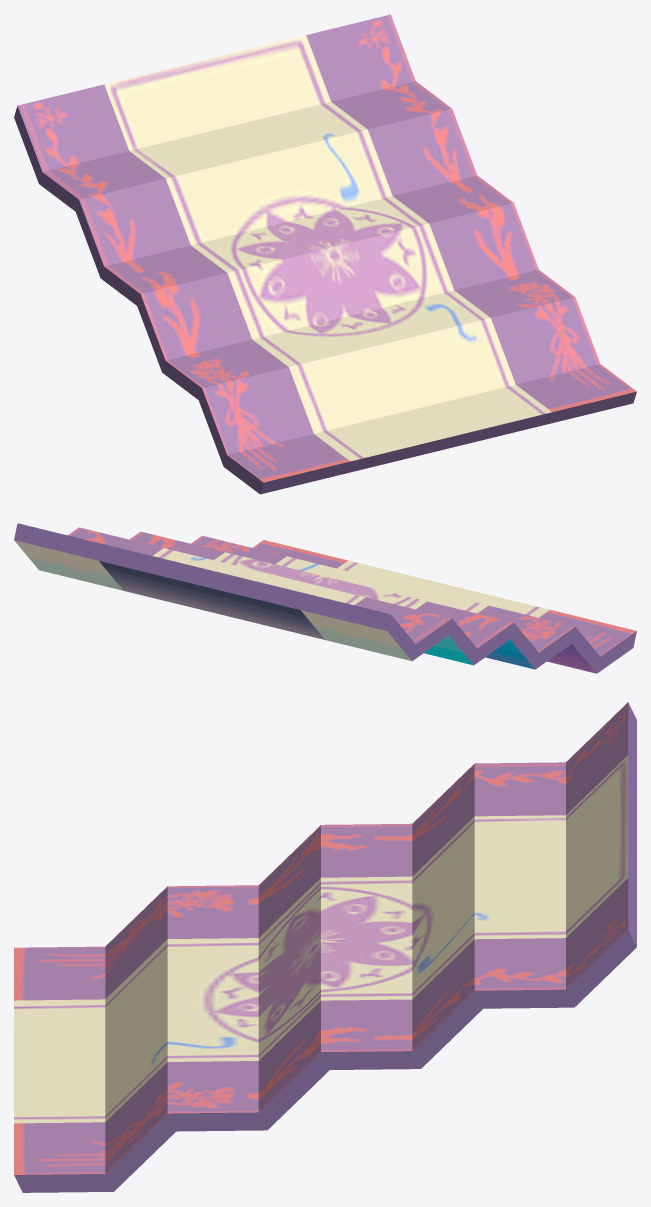
File: Building_Vapor_Ramp_02_Art.fbx
3 renders of one model, top to bottom at view 1: azimuth 30°, elevation 25°; view 2: azimuth 150°, elevation 25°; view 3: azimuth 270°, elevation 25°, orthographic. The views are drawn at different scales.
Parts seen in each view (by area): view 1: Building_Vapor_Ramp_02; view 2: Building_Vapor_Ramp_02; view 3: Building_Vapor_Ramp_02.
Boxes of the visible parts, bbox=[...] form: Building_Vapor_Ramp_02: bbox=[14, 14, 636, 494]; Building_Vapor_Ramp_02: bbox=[14, 523, 636, 673]; Building_Vapor_Ramp_02: bbox=[14, 702, 636, 1192].
Size of the model in its own units: 480 by 260 by 556.
